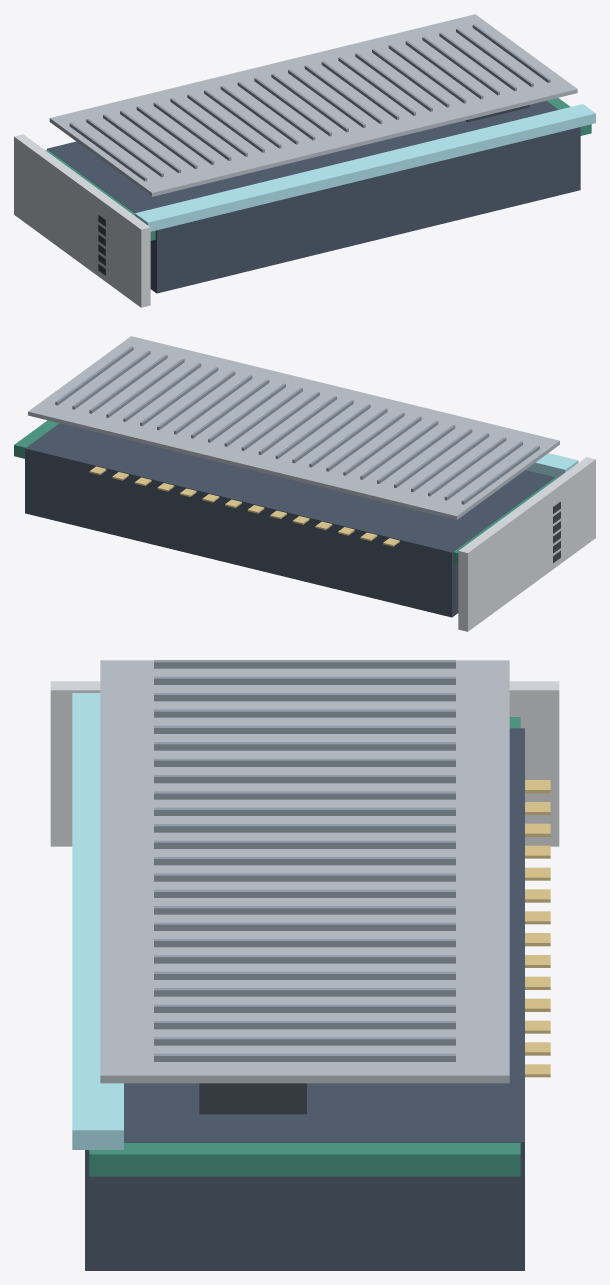
Rendered from gpu.glb.
The picture shows the model from 3 angles, top to bottom: view 1: azimuth 30°, elevation 25°; view 2: azimuth 150°, elevation 25°; view 3: azimuth 270°, elevation 25°; orthographic projection. The views are drawn at different scales.
Parts seen in each view (by area): view 1: gpu_backplate_31, gpu_shroud_2, pcie_bracket_57, gpu_rgb_edge_30, graphics_pcb_1, backplate_heat_vent_32, backplate_heat_vent_56, backplate_heat_vent_37, backplate_heat_vent_42, backplate_heat_vent_46, backplate_heat_vent_47, backplate_heat_vent_52 (+18 smaller); view 2: gpu_shroud_2, gpu_backplate_31, pcie_bracket_57, graphics_pcb_1, gpu_rgb_edge_30, backplate_heat_vent_48, backplate_heat_vent_32, backplate_heat_vent_41, backplate_heat_vent_54, backplate_heat_vent_55, backplate_heat_vent_33, backplate_heat_vent_35 (+18 smaller); view 3: gpu_backplate_31, gpu_shroud_2, graphics_pcb_1, gpu_rgb_edge_30, pcie_bracket_57, pcie_8pin_socket_64, backplate_heat_vent_32, backplate_heat_vent_33, backplate_heat_vent_34, backplate_heat_vent_35, backplate_heat_vent_36, backplate_heat_vent_37 (+19 smaller).
Part boxes in pixels (x1,y1,x2,y2): gpu_backplate_31: (49,14,577,196); gpu_shroud_2: (47,100,580,293); pcie_bracket_57: (14,134,150,307); gpu_rgb_edge_30: (135,104,595,231); graphics_pcb_1: (45,98,591,240); backplate_heat_vent_32: (69,122,147,181); backplate_heat_vent_56: (472,24,550,82); backplate_heat_vent_37: (153,102,231,160); backplate_heat_vent_42: (237,81,315,140); backplate_heat_vent_46: (304,65,382,123); backplate_heat_vent_47: (321,61,399,119); backplate_heat_vent_52: (405,40,483,99); gpu_shroud_2: (25,423,554,617); gpu_backplate_31: (28,336,559,519); pcie_bracket_57: (458,457,595,631); graphics_pcb_1: (14,420,557,564); gpu_rgb_edge_30: (526,453,578,477); backplate_heat_vent_48: (191,379,269,438); backplate_heat_vent_32: (461,445,539,504); backplate_heat_vent_41: (309,408,387,467); backplate_heat_vent_54: (89,354,167,413); backplate_heat_vent_55: (72,350,150,409); backplate_heat_vent_33: (444,441,522,500); backplate_heat_vent_35: (411,433,489,492); gpu_backplate_31: (100,660,509,1083); gpu_shroud_2: (85,728,524,1270); graphics_pcb_1: (89,717,520,1176); gpu_rgb_edge_30: (72,693,123,1149); pcie_bracket_57: (50,681,559,846); pcie_8pin_socket_64: (199,1083,306,1114); backplate_heat_vent_32: (154,660,455,668); backplate_heat_vent_33: (154,676,455,684); backplate_heat_vent_34: (154,693,455,701); backplate_heat_vent_35: (154,709,455,717); backplate_heat_vent_36: (154,725,455,733); backplate_heat_vent_37: (154,742,455,750).
Bounding box in the file's own units: 2.47 × 0.593 × 1.18.
